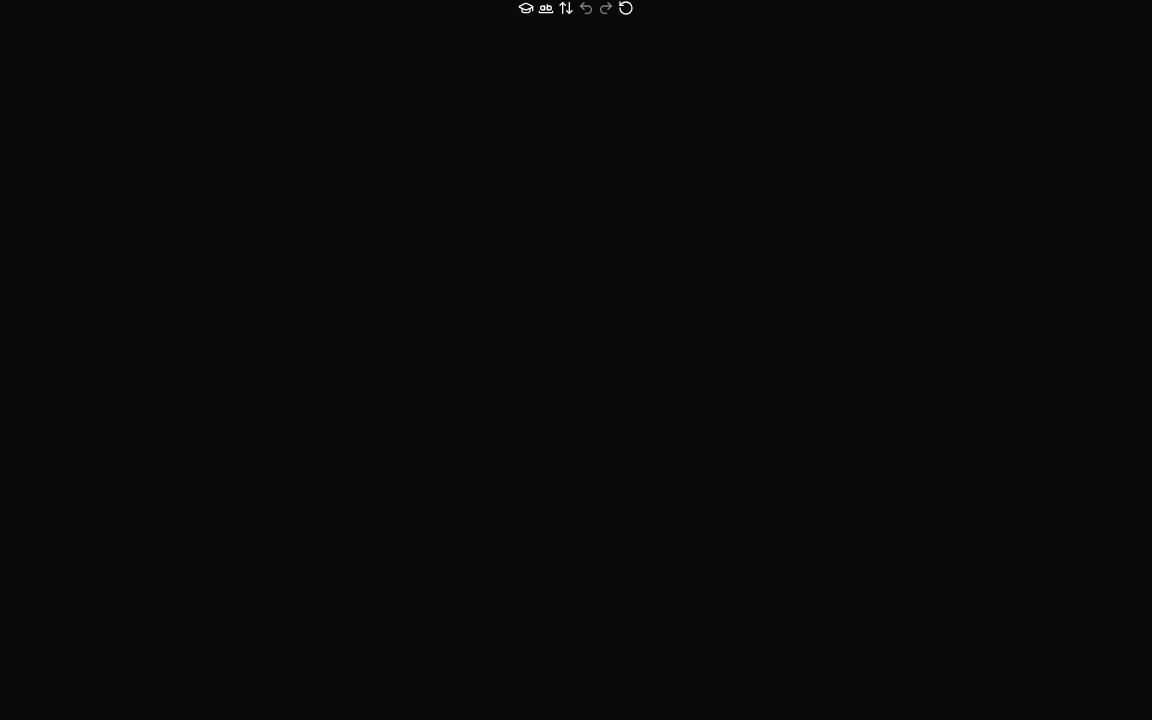
Test case: ChessBoardView conversione in studio › apre la conferma senza convertire e permette di annullare
Click the button titled "Converti questa analisi in una lezione di studio".
click(526, 8)  # box top-left (518, 0), bottom-right (534, 16)
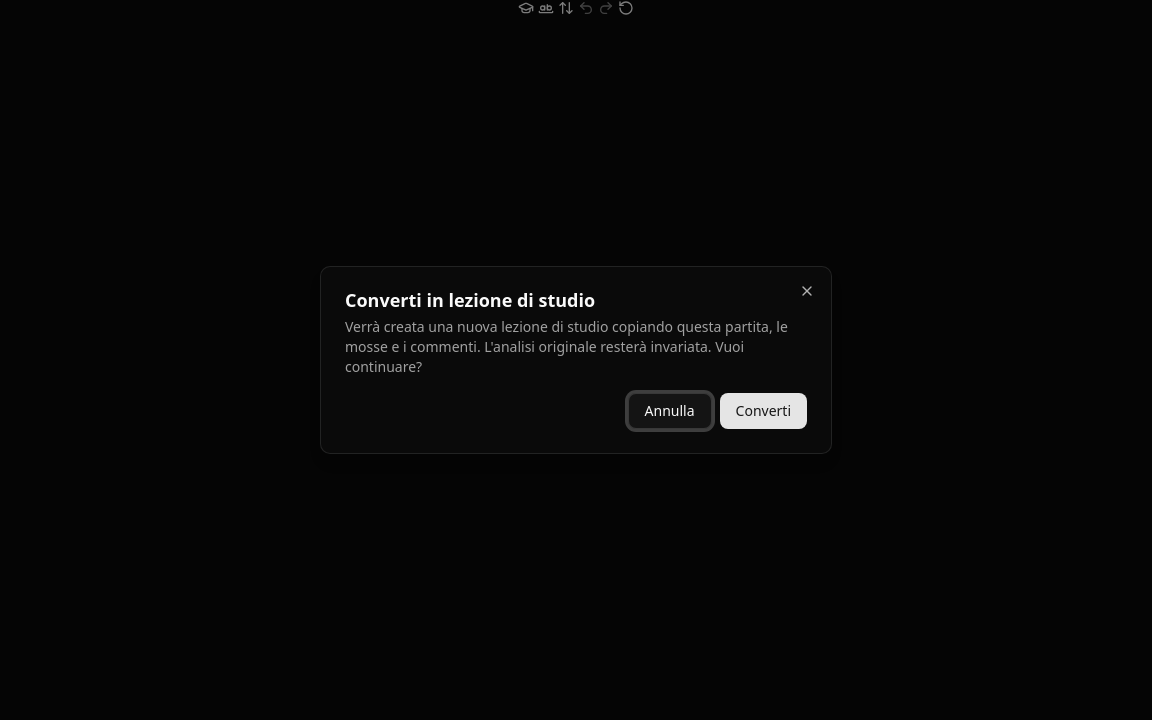
expect the heading "Converti in lezione di studio" is shown: met, box top-left (345, 288), bottom-right (595, 312)
Click the button "Annulla".
click(670, 411)  # box top-left (628, 393), bottom-right (712, 429)
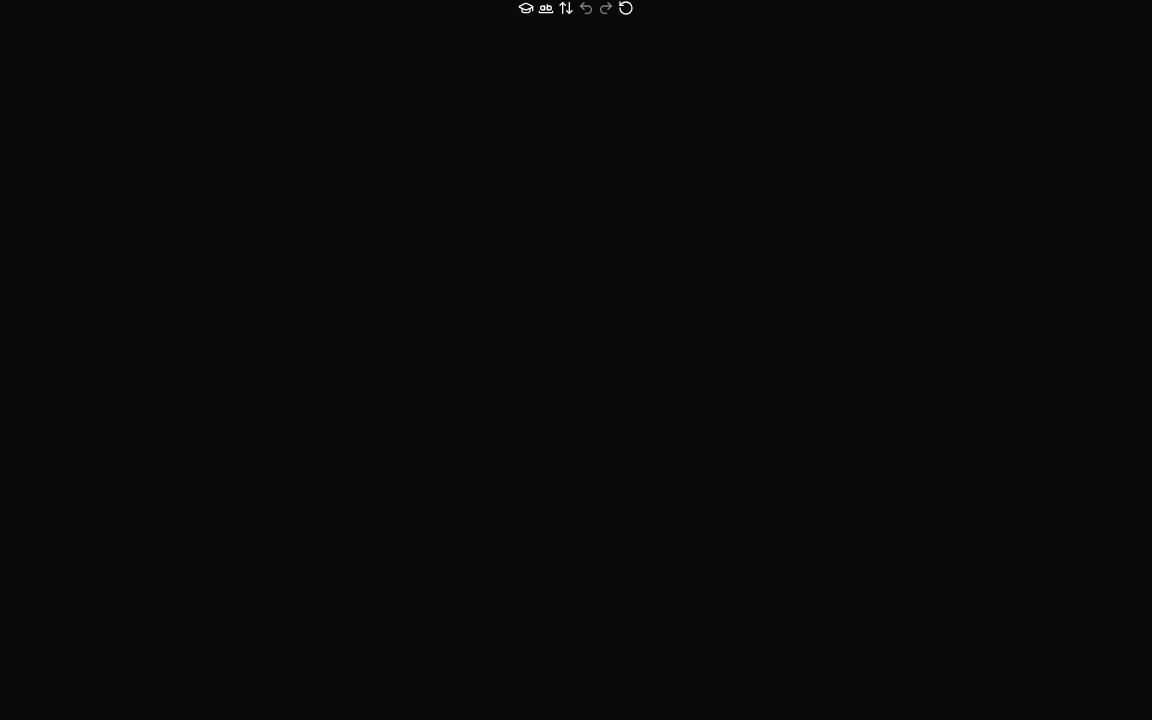
expect the heading "Converti in lezione di studio" is gone: met
